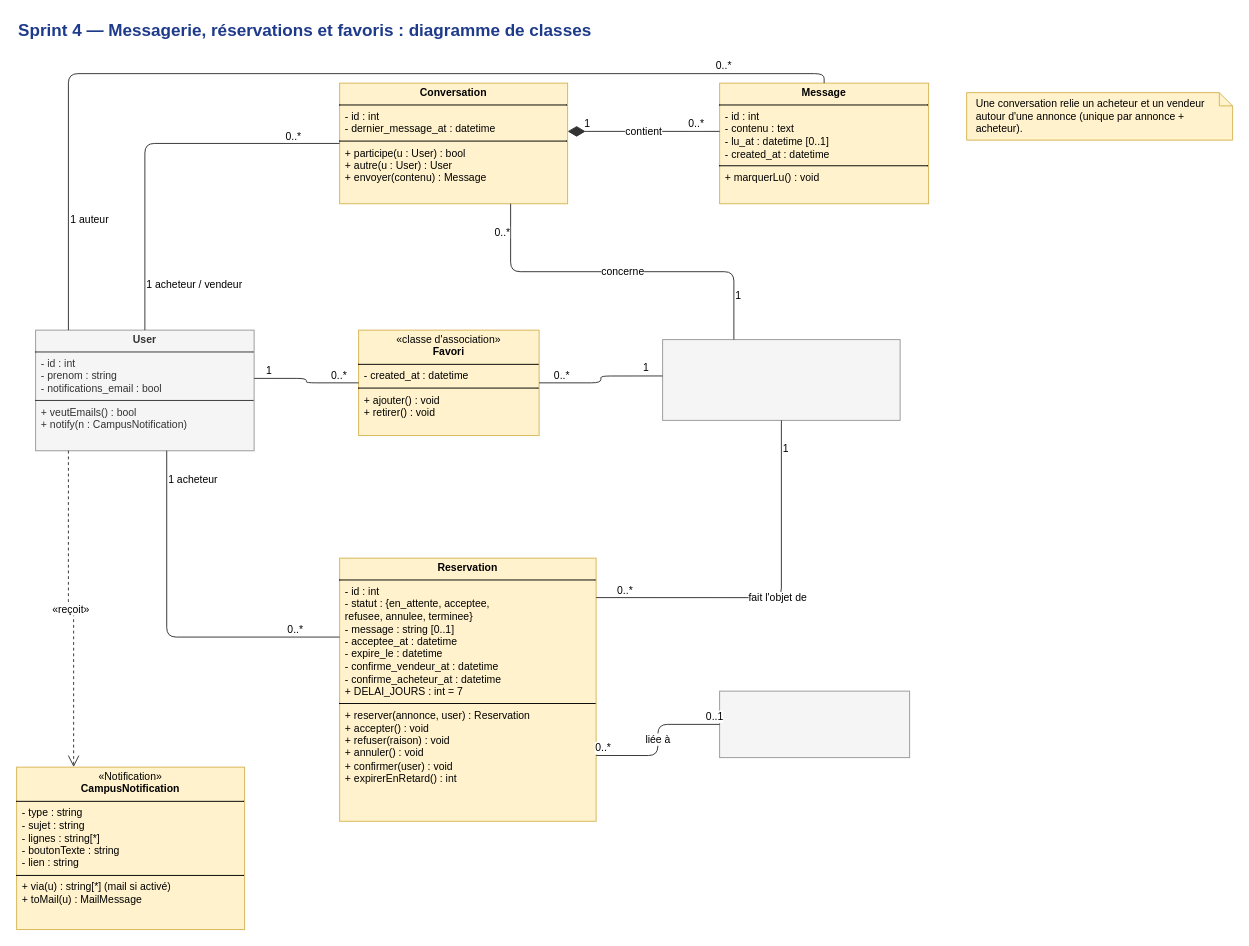
Image size: 1249x946. Some labels were removed from this diagram. The shapes that lost their labels are listed below. From the top down, each one's centre as x and y in pixels, then its label:
the point at 781,379: Annonce - id : int - titre : string - statut : {disponible, reservee, cedee}
the point at 814,724: Demande - id : int - statut : {ouverte, cloturee}
